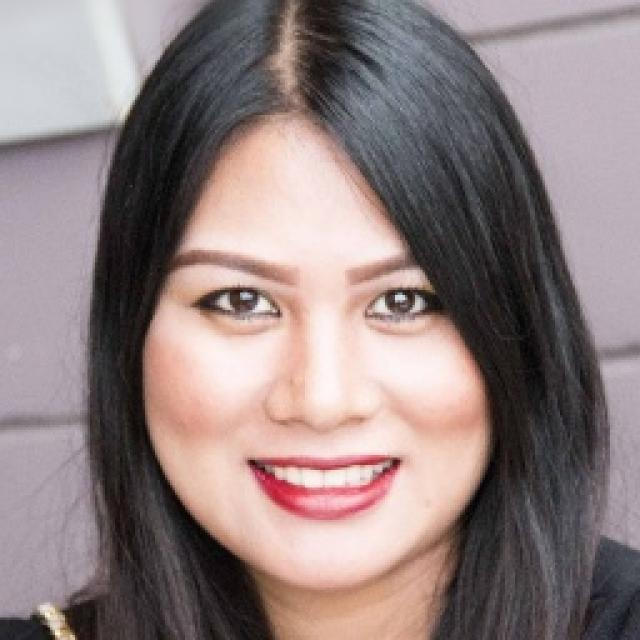no-glasses: (168, 257, 450, 358)
